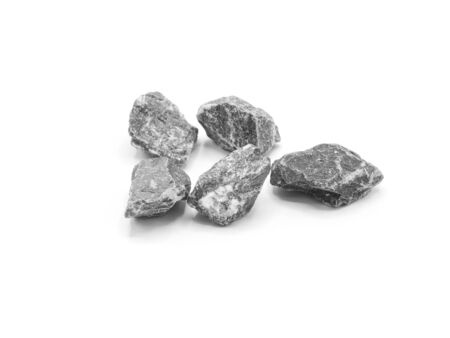obstacle: (125, 92, 278, 224), (270, 144, 382, 206)
